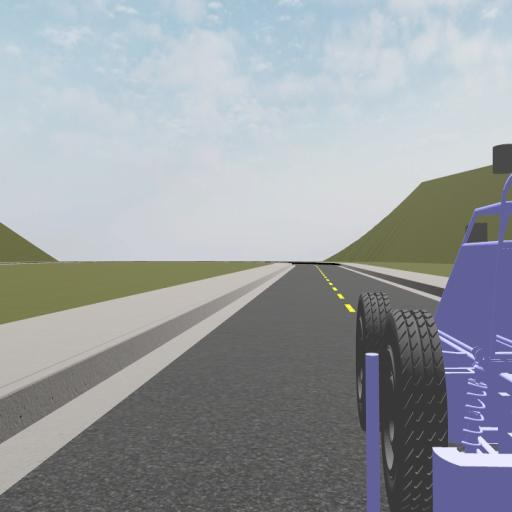ERP-42: (355, 143, 512, 512)
